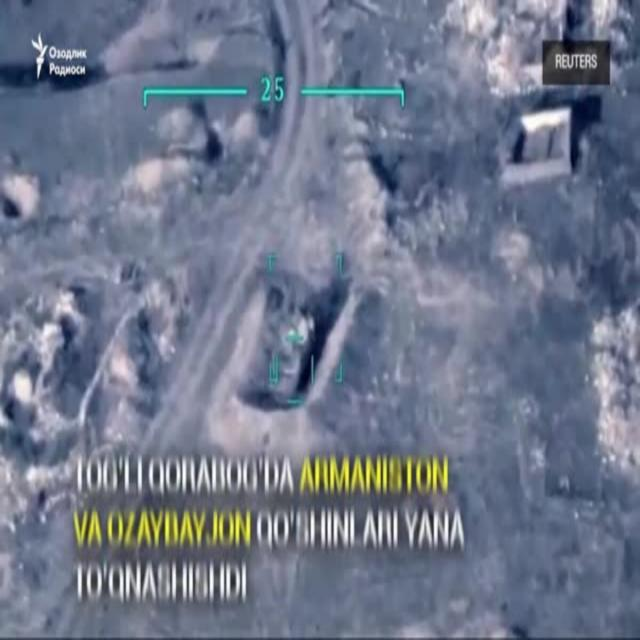cars: (3, 38, 92, 85), (272, 316, 312, 405)
